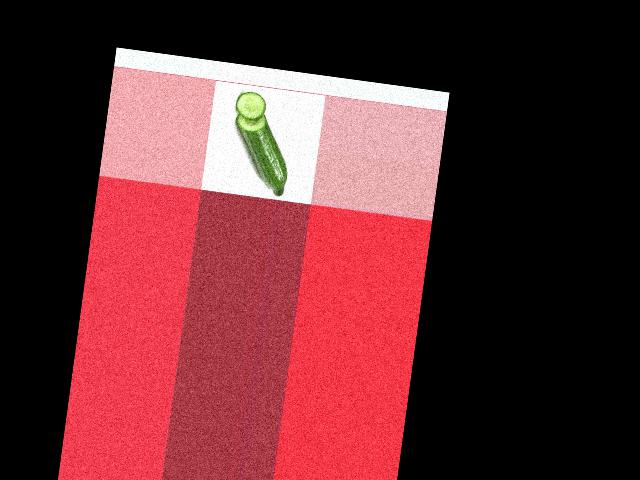cucumber: (226, 109, 294, 196)
